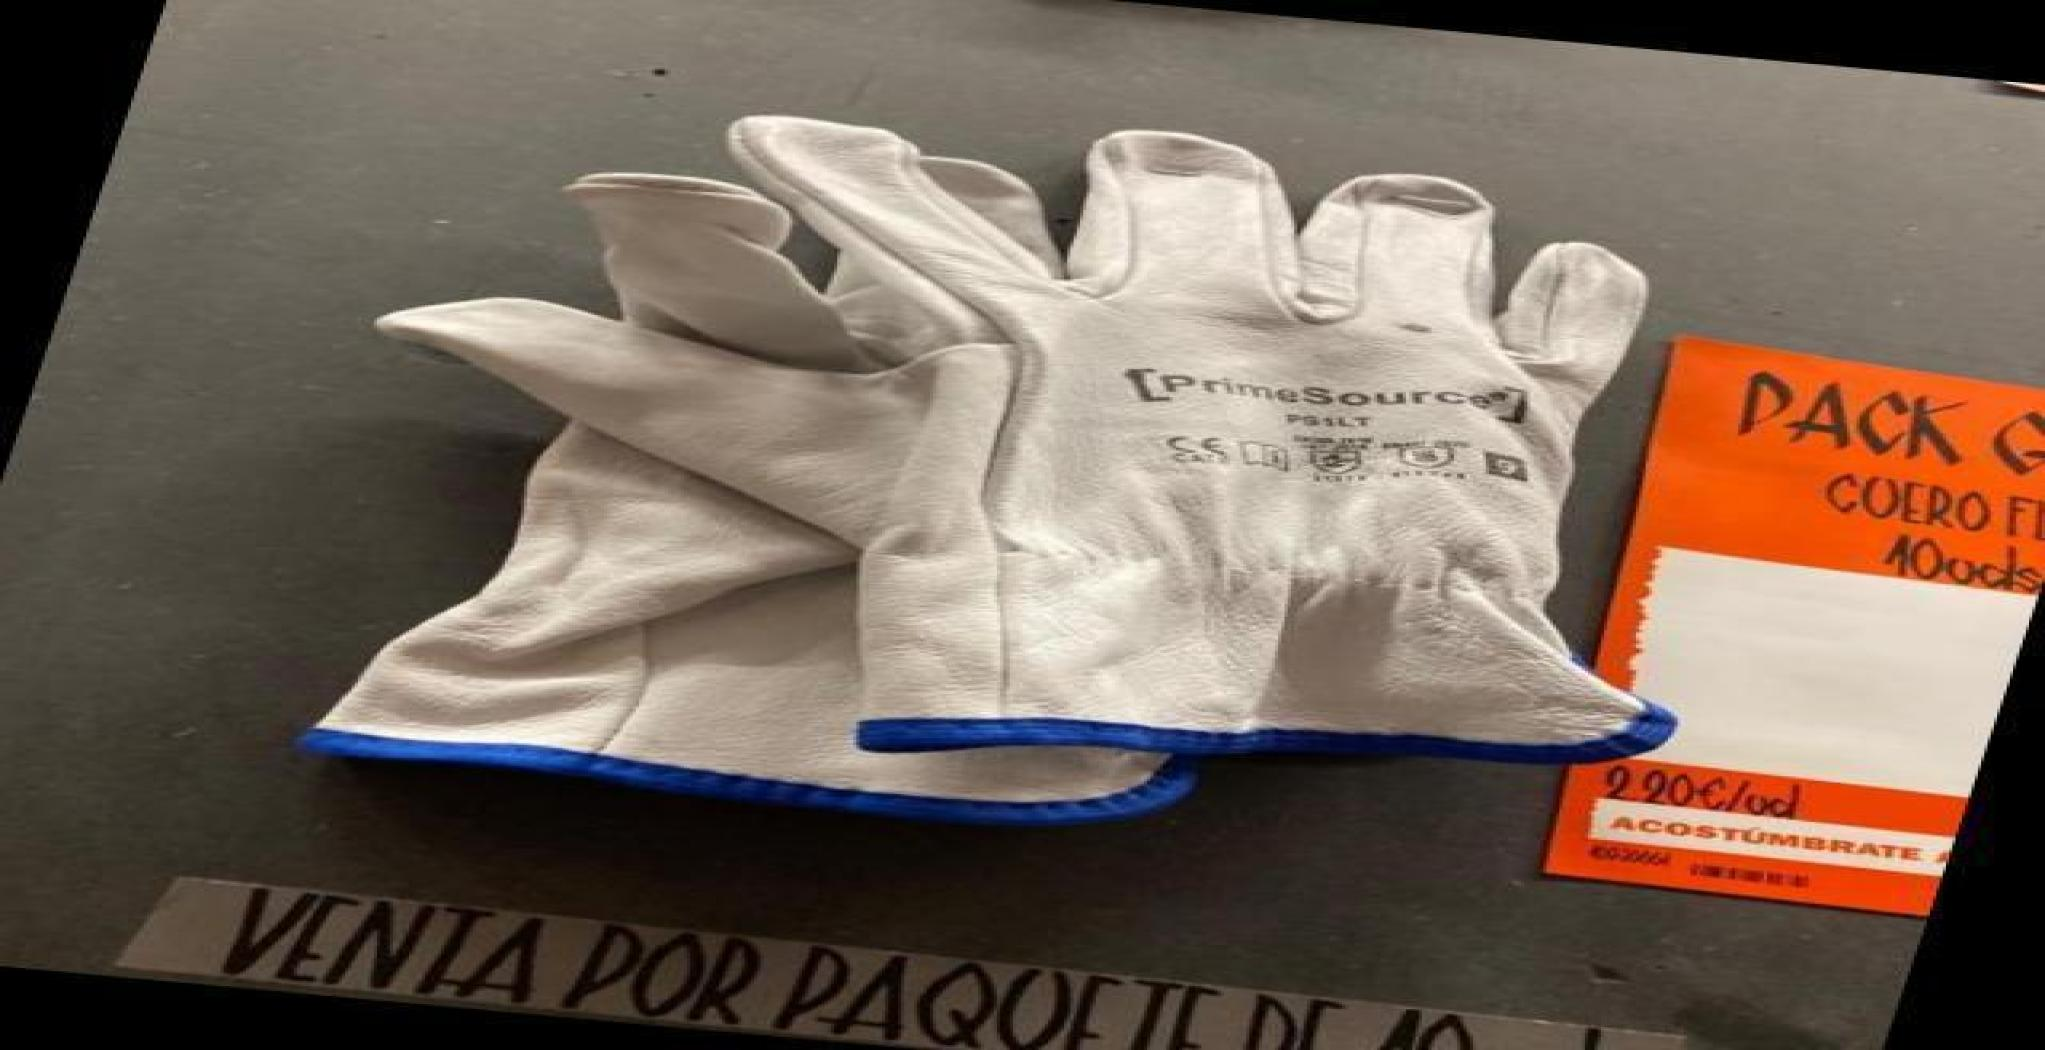gloved: (295, 111, 1681, 824)
